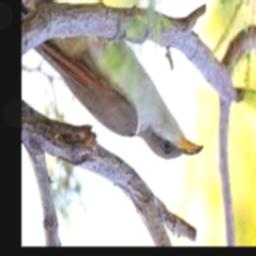Cuckoo: (31, 30, 202, 160)
